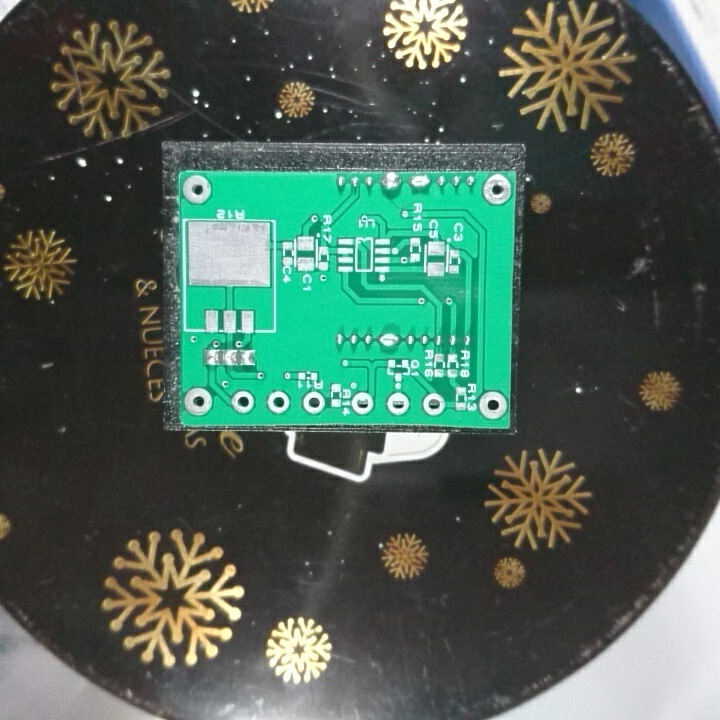F: (480, 173, 513, 207), (477, 388, 511, 421), (180, 172, 213, 206), (182, 385, 214, 417), (383, 389, 412, 418), (349, 389, 376, 418), (228, 389, 256, 416), (419, 391, 445, 418), (265, 389, 291, 416), (299, 389, 324, 416)
P: (379, 172, 402, 193), (377, 331, 402, 350), (408, 172, 431, 191)
